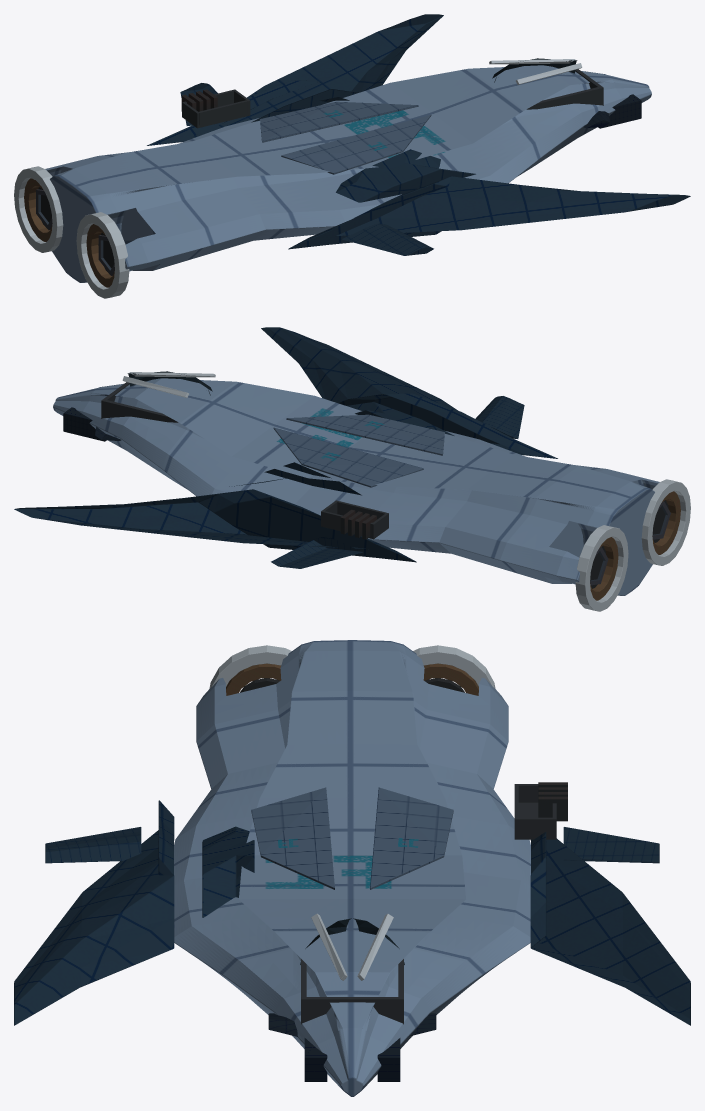
File: hornet_production_v1_lod1.glb
3 views of the same model, one above another, from view 1: azimuth 30°, elevation 25°; view 2: azimuth 150°, elevation 25°; view 3: azimuth 270°, elevation 25° (orthographic). The views are drawn at different scales.
Parts seen in each view (by area): view 1: LOD1_Hull, Wing_Port.001, Wing_Stbd.001, SaddlePanel_Port.001, Wing_Port_RootFairing.001, SaddlePanel_Stbd.001, DriveFlange_Port.001, DriveFlange_Stbd.001, Wing_Port_Flap.001, Wing_Stbd_RootFairing.001, DriveCeramic_Port.001, DriveCeramic_Stbd.001 (+3 smaller); view 2: LOD1_Hull, Wing_Stbd.001, Wing_Port.001, SaddlePanel_Stbd.001, SaddlePanel_Port.001, DriveFlange_Stbd.001, DriveFlange_Port.001, Wing_Stbd_Flap.001, Wing_Port_Flap.001, Wing_Stbd_RootFairing.001, Wing_Port_RootFairing.001, DriveCeramic_Stbd.001 (+3 smaller); view 3: LOD1_Hull, Wing_Port.001, Wing_Stbd.001, SaddlePanel_Port.001, SaddlePanel_Stbd.001, Wing_Port_RootFairing.001, Wing_Port_Flap.001, Wing_Stbd_Flap.001, CanopyTub_C190_Fore.001, DriveFlange_Port.001, DriveFlange_Stbd.001, RadiatorCassette_C190_Fore.001 (+4 smaller).
Part boxes in pixels (x1,y1,x2,y2): LOD1_Hull: (45,65,651,282); Wing_Port.001: (288,176,690,249); Wing_Stbd.001: (147,14,443,145); SaddlePanel_Port.001: (281,114,431,174); Wing_Port_RootFairing.001: (336,149,475,202); SaddlePanel_Stbd.001: (260,101,418,142); DriveFlange_Port.001: (76,212,129,298); DriveFlange_Stbd.001: (14,166,63,252); Wing_Port_Flap.001: (341,223,433,255); Wing_Stbd_RootFairing.001: (251,89,357,122); DriveCeramic_Port.001: (86,224,114,287); DriveCeramic_Stbd.001: (24,178,52,241); LOD1_Hull: (53,378,659,595); Wing_Stbd.001: (14,489,416,562); Wing_Port.001: (261,327,557,458); SaddlePanel_Stbd.001: (273,427,423,487); SaddlePanel_Port.001: (286,414,444,455); DriveFlange_Stbd.001: (575,525,628,611); DriveFlange_Port.001: (641,479,690,565); Wing_Stbd_Flap.001: (271,536,363,568); Wing_Port_Flap.001: (475,396,524,438); Wing_Stbd_RootFairing.001: (229,462,361,495); Wing_Port_RootFairing.001: (347,402,454,435); DriveCeramic_Stbd.001: (590,537,618,600); LOD1_Hull: (174,640,530,1096); Wing_Port.001: (14,800,174,1025); Wing_Stbd.001: (530,832,690,1025); SaddlePanel_Port.001: (251,787,334,889); SaddlePanel_Stbd.001: (370,787,453,889); Wing_Port_RootFairing.001: (202,826,254,917); Wing_Port_Flap.001: (45,827,141,863); Wing_Stbd_Flap.001: (563,827,659,863); CanopyTub_C190_Fore.001: (301,997,403,1024); DriveFlange_Port.001: (209,645,291,688); DriveFlange_Stbd.001: (413,645,495,688); RadiatorCassette_C190_Fore.001: (514,817,556,839).
Size of what is drawn, in the model's own units: 10.53 by 1.78 by 7.76.
11 materials, 7 textured.
